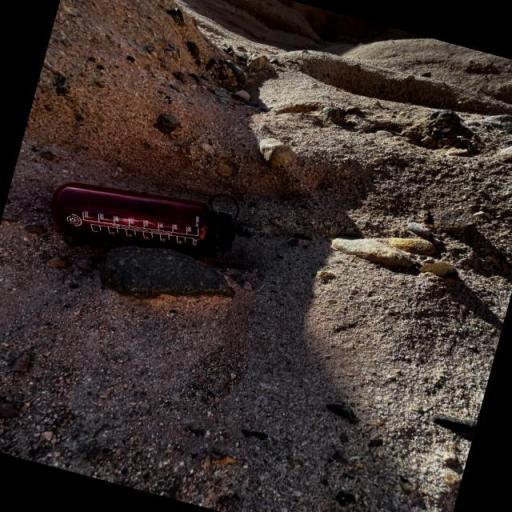bottle: (43, 152, 245, 278)
